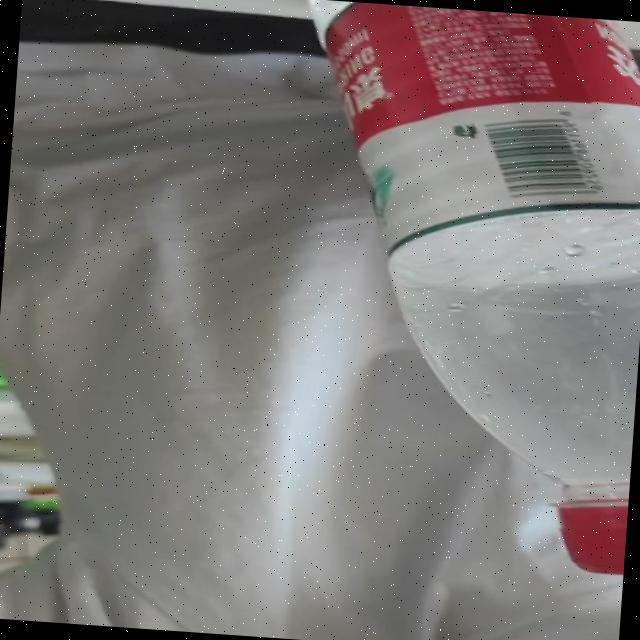bottle: (272, 0, 640, 581)
cap: (558, 496, 628, 580)
label: (316, 0, 640, 279)
